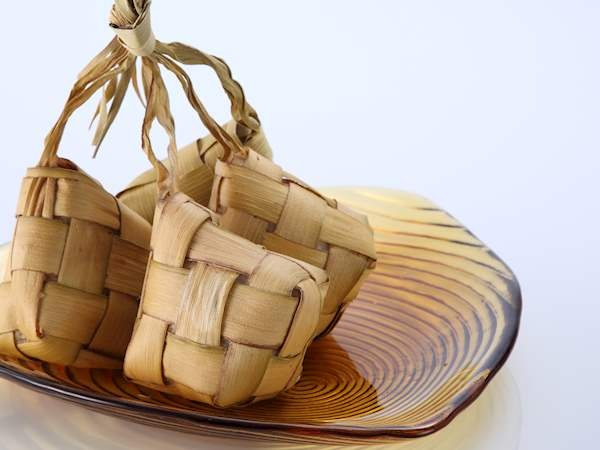ketupat: (120, 186, 331, 410), (0, 148, 151, 370)
